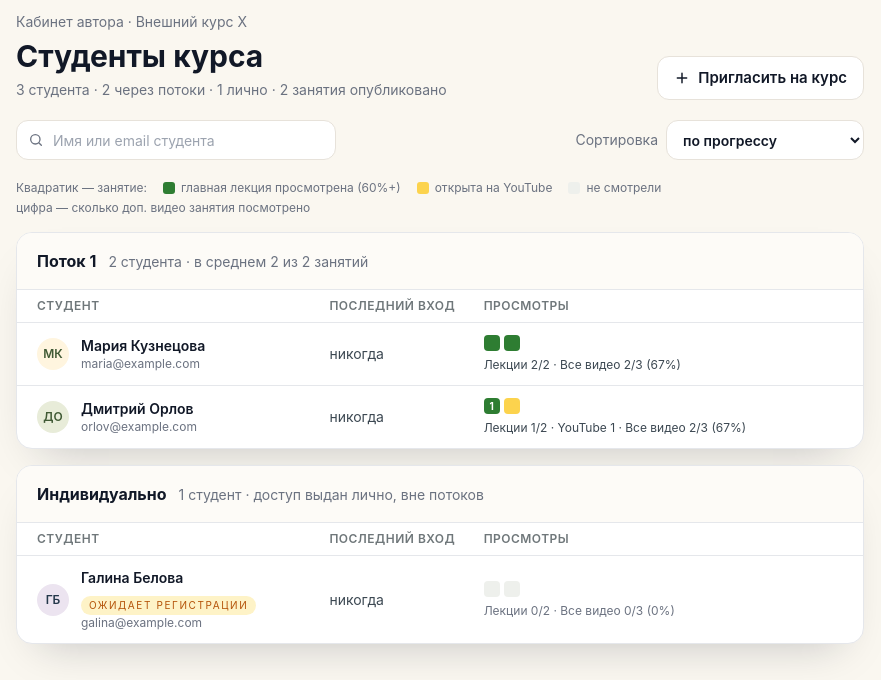
CourseStudents › поиск оставляет только совпавших студентов
Expected: the text "Мария Кузнецова" is shown, x1=81 y1=336 x2=205 y2=356
Type "орлов" into the search field named "Поиск студента". click: (176, 140)
box: x1=16 y1=120 x2=336 y2=160
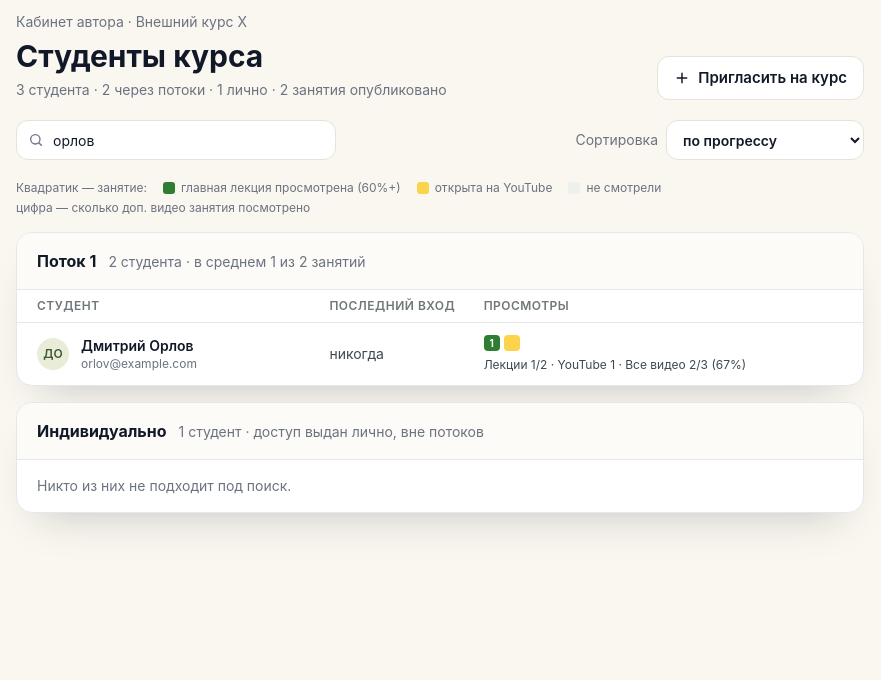
Expected: the text "Дмитрий Орлов" is shown, x1=81 y1=336 x2=194 y2=356
Now the text "Мария Кузнецова" is gone
Now the text "Никто из них не подходит под поиск." is shown, box x1=37 y1=477 x2=291 y2=494
